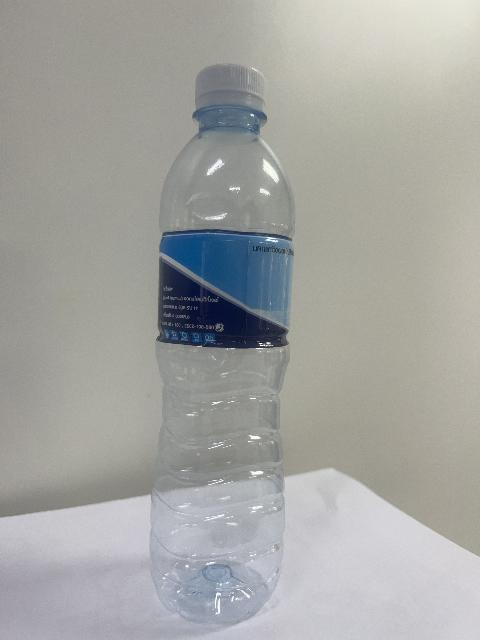bottle: (150, 65, 293, 623)
